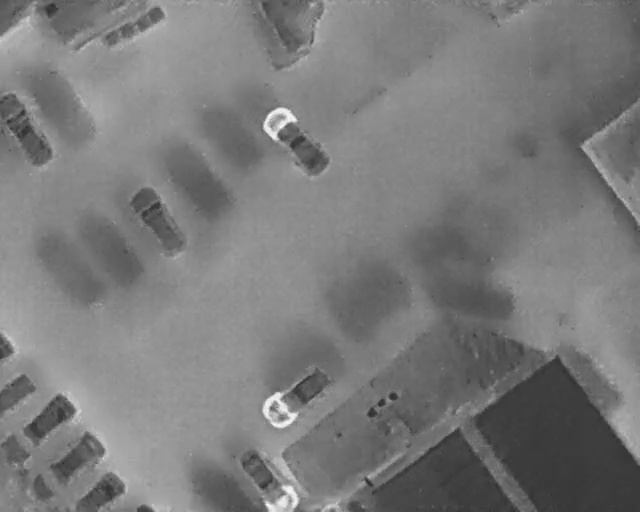Car: (25, 424, 113, 508), (256, 98, 335, 184), (256, 356, 338, 433), (0, 390, 80, 466), (123, 179, 193, 262), (233, 447, 299, 512), (0, 93, 54, 168), (59, 471, 126, 511), (1, 331, 15, 361)
